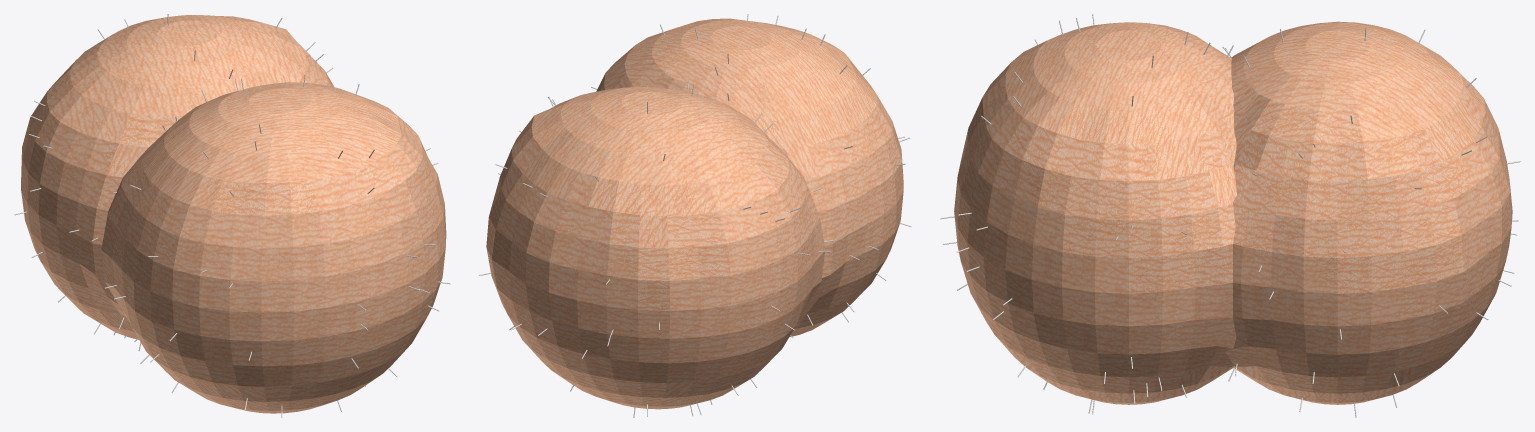
Rendered from ButtCheekFiber.fbx.
The picture shows the model from 3 angles, left to right: view 1: azimuth 30°, elevation 25°; view 2: azimuth 150°, elevation 25°; view 3: azimuth 270°, elevation 25°; orthographic projection. The views are drawn at different scales.
Parts seen in each view (by area): view 1: Sphere.001, Mesh.001; view 2: Sphere.001, Mesh.001; view 3: Sphere.001, Mesh.001.
Boxes of the visible parts, x1,y1,x2,y2 form: Sphere.001: (21,15,446,413); Mesh.001: (14,14,450,417); Sphere.001: (486,18,903,409); Mesh.001: (479,14,911,417); Sphere.001: (954,21,1512,404); Mesh.001: (940,14,1520,417).
Size of the model in its own units: 341 by 326 by 479.
Materials: 1 (1 with a texture image).
